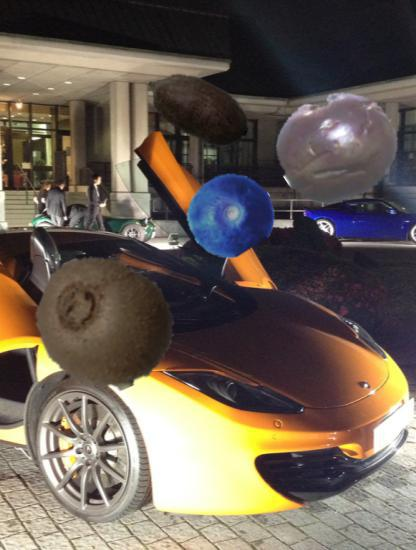Huckleberry: (187, 171, 274, 258)
Kiwi: (36, 251, 177, 392)
Nut: (142, 52, 253, 163)
Passion: (276, 85, 400, 209)
